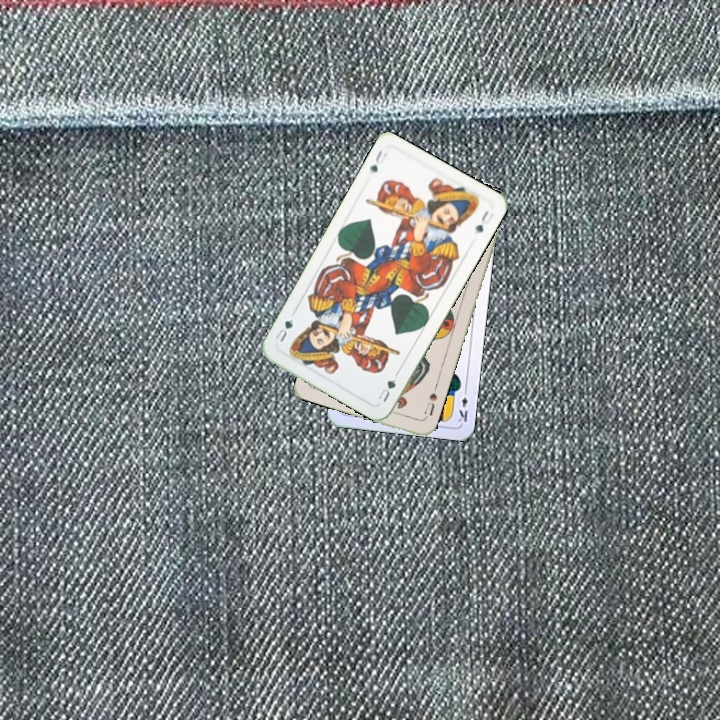EK: (454, 384, 470, 425)
GU: (365, 146, 390, 177), (374, 375, 399, 405)
SU: (420, 389, 440, 418)
